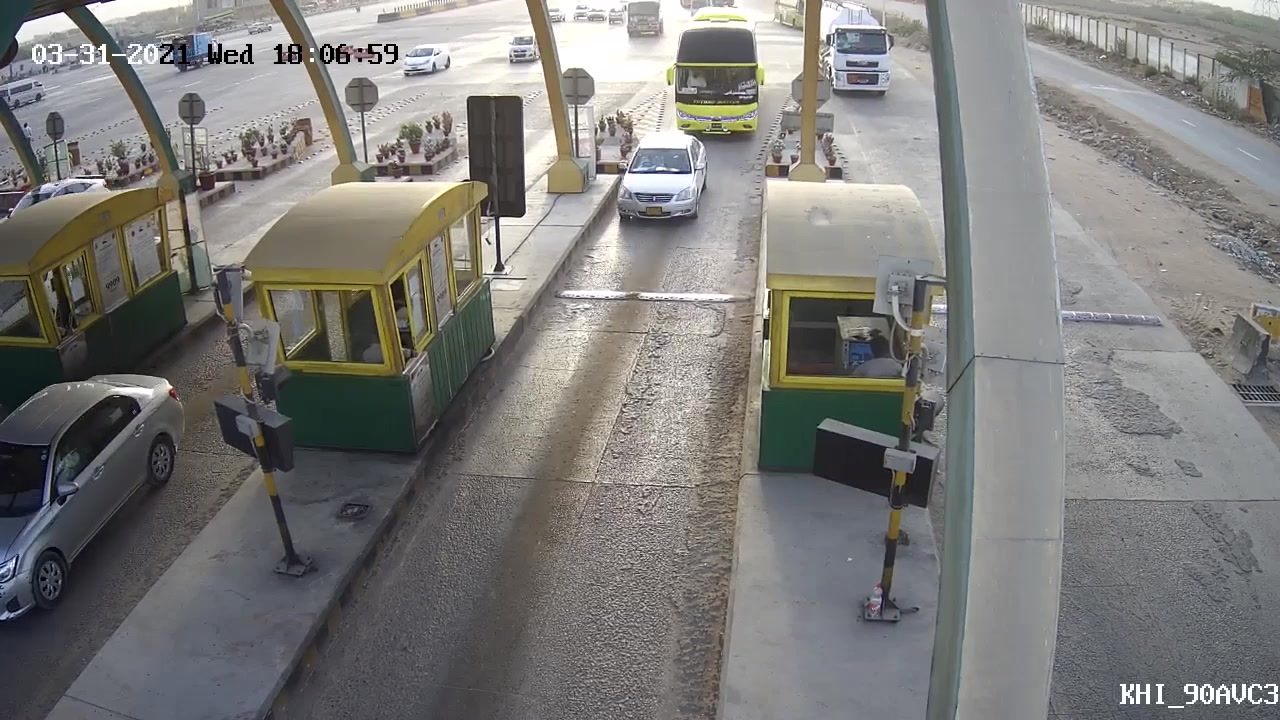F1: (608, 126, 717, 234)
